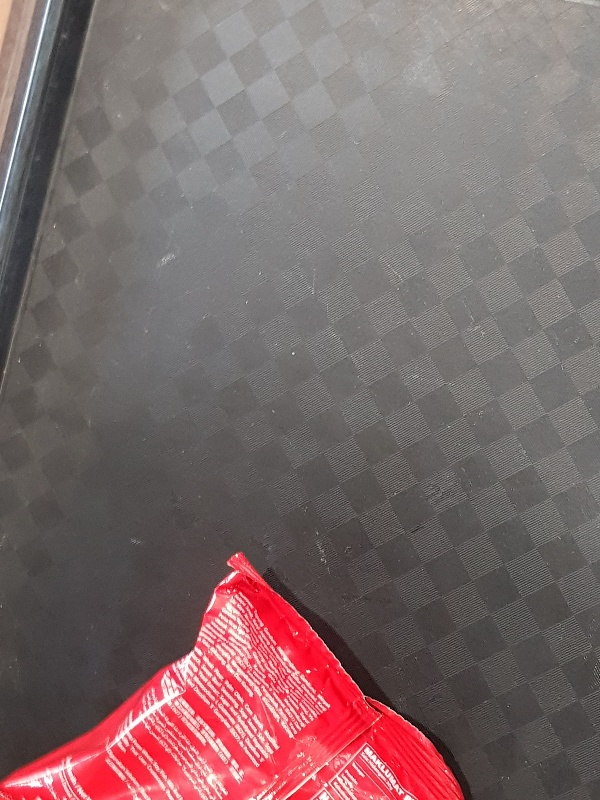ShoyueMi Spicy Flavoured Snacks: (1, 551, 465, 800)
